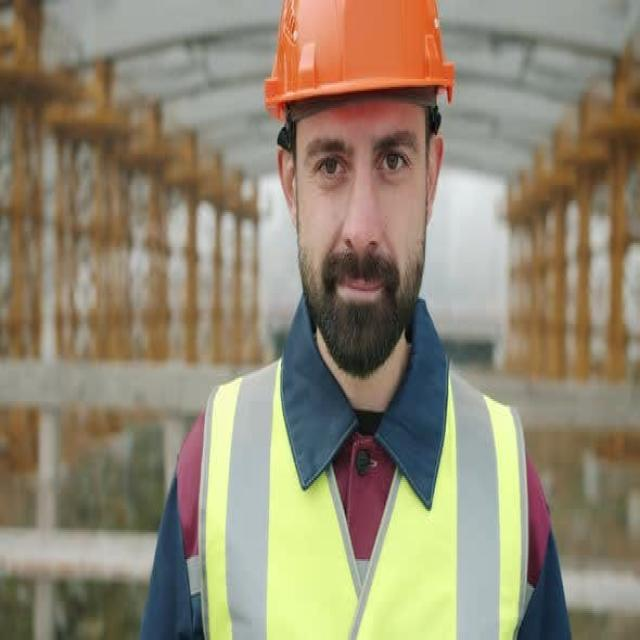helmet: (258, 0, 457, 135)
no-goggles: (280, 102, 436, 206)
vest: (195, 354, 534, 640)
